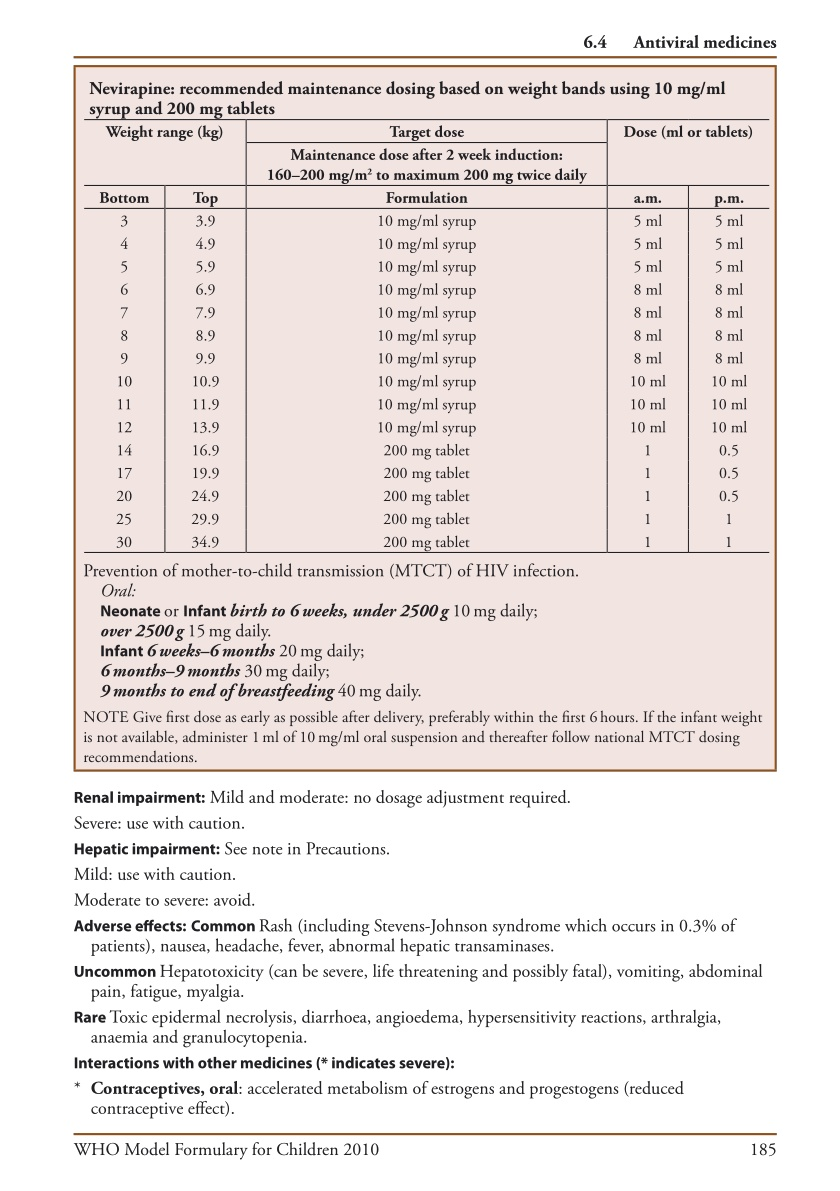merged_cells: (71, 64, 777, 772)
